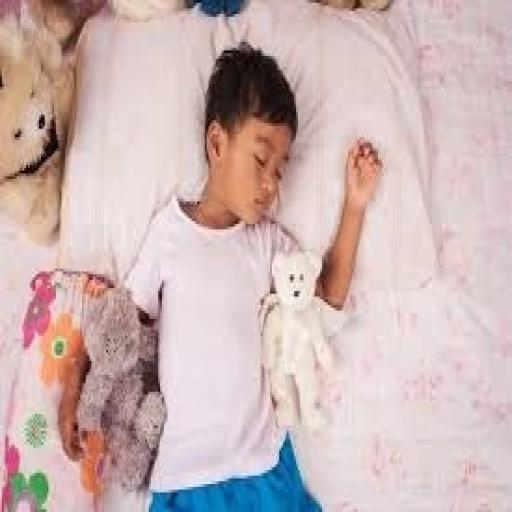sleeping: (119, 39, 384, 509)
